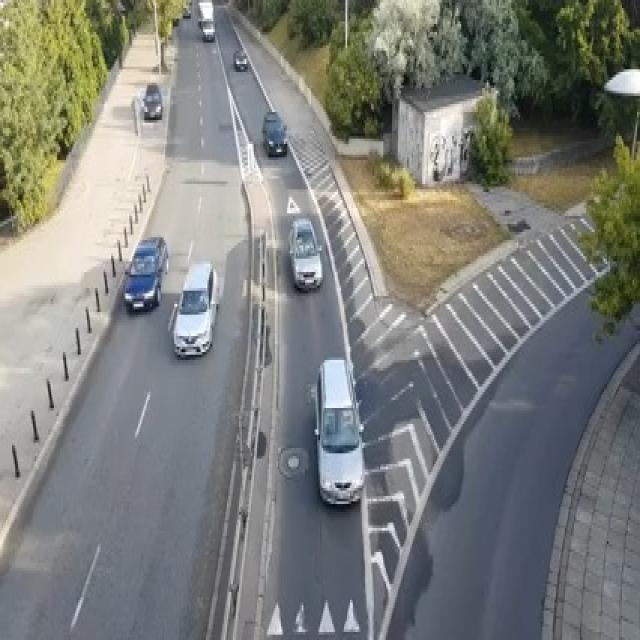bus: (310, 354, 364, 506)
car: (167, 259, 219, 357), (123, 235, 168, 312), (287, 216, 323, 291), (134, 235, 168, 277), (261, 109, 287, 155), (141, 83, 162, 120), (201, 19, 215, 40), (233, 48, 246, 69), (182, 3, 191, 16)
truck: (197, 0, 215, 40)
